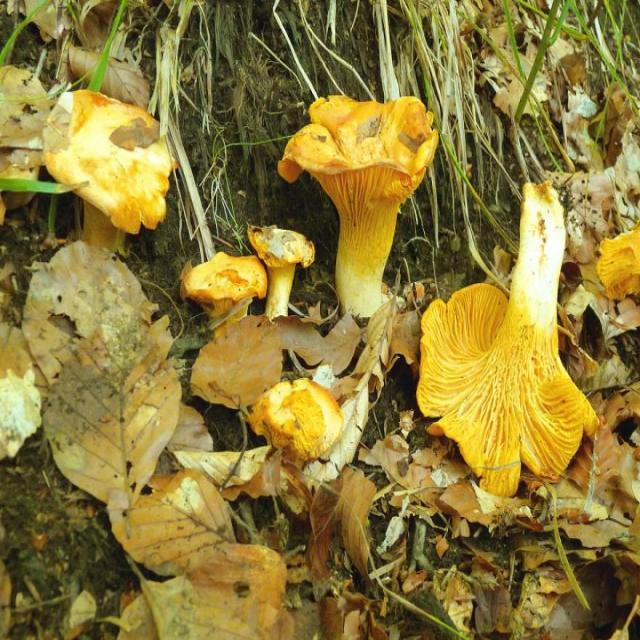Cantharellus cibarius: (415, 183, 601, 492), (283, 94, 430, 316), (45, 89, 174, 239), (251, 376, 342, 470), (182, 251, 266, 336), (254, 226, 312, 327)
